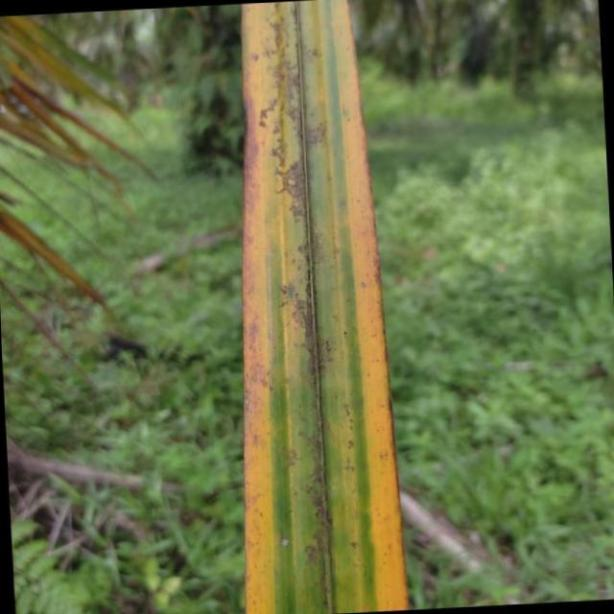Megnesium: (234, 0, 410, 614)
